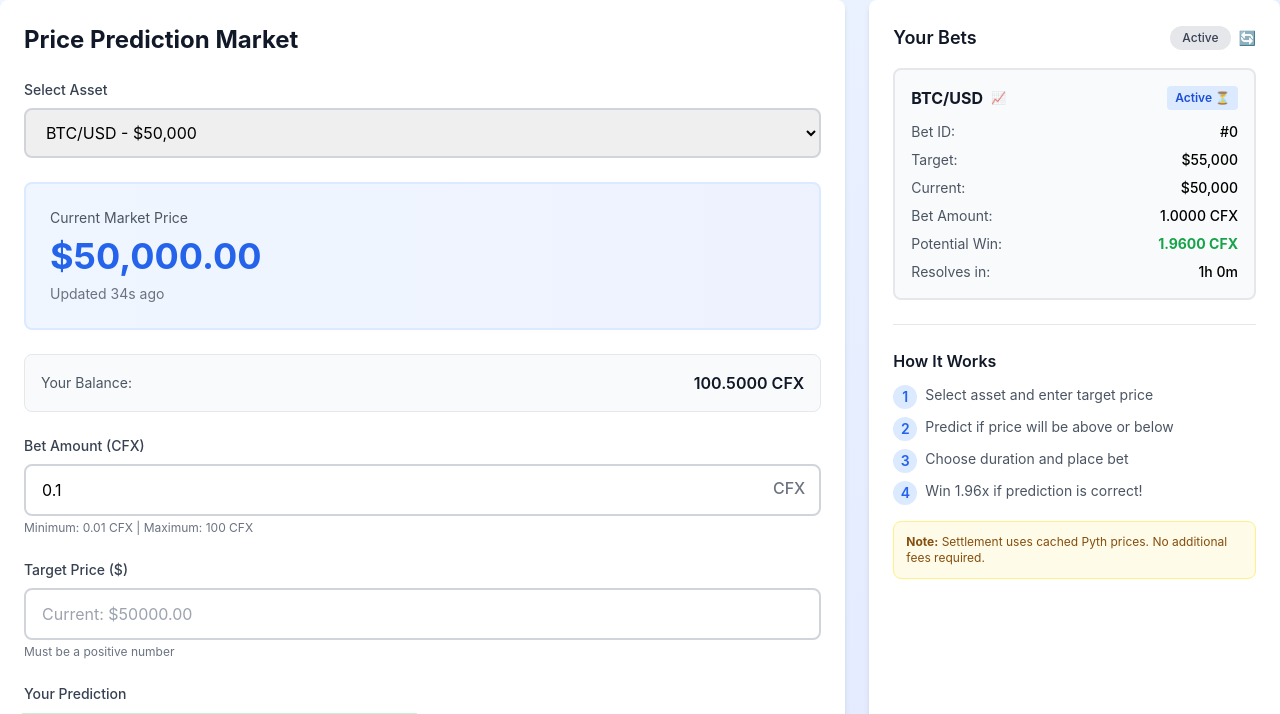
BettingInterface Component › User Bets Display › shows settled bets in all history view
Click the button "Active" at (1200, 38), box [1170,26,1230,50]
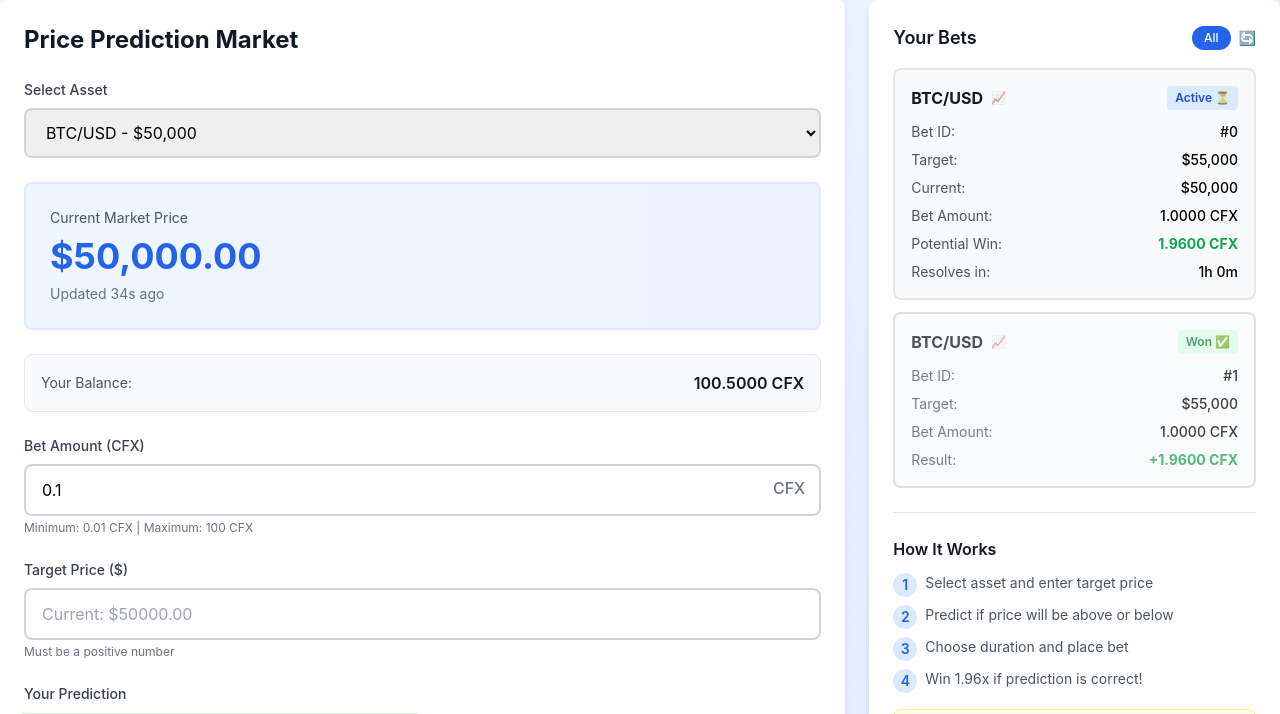
Check: the text "Won ✅" is shown, box [1178,330,1238,354]
